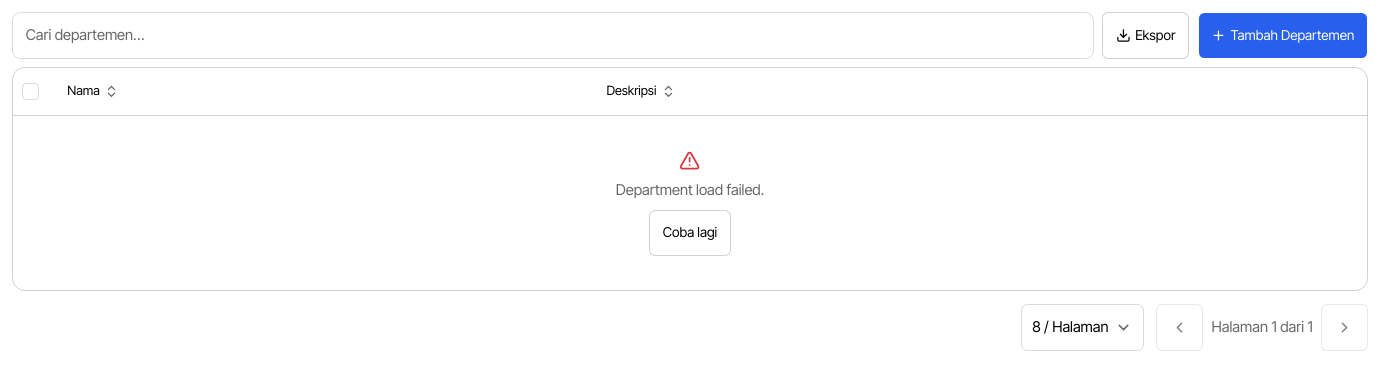
Scenario: DepartmentsSection remainder › shows the error state with retry when loading fails
Expected: the text "Department load failed." is shown, [616, 180, 764, 201]
Click the button "Coba lagi".
click(690, 233)  # box [649, 210, 731, 256]
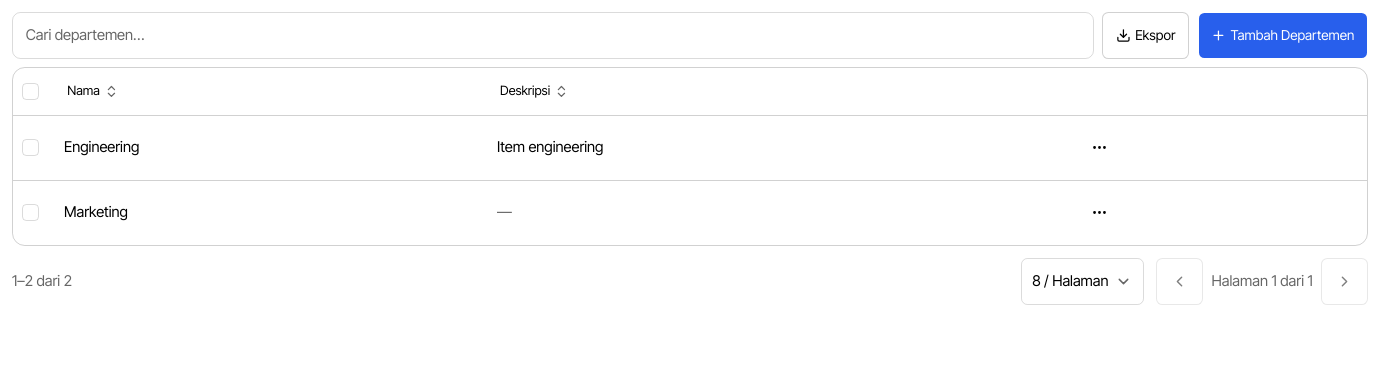
Now the text "Engineering" is shown, box [64, 138, 139, 156]
